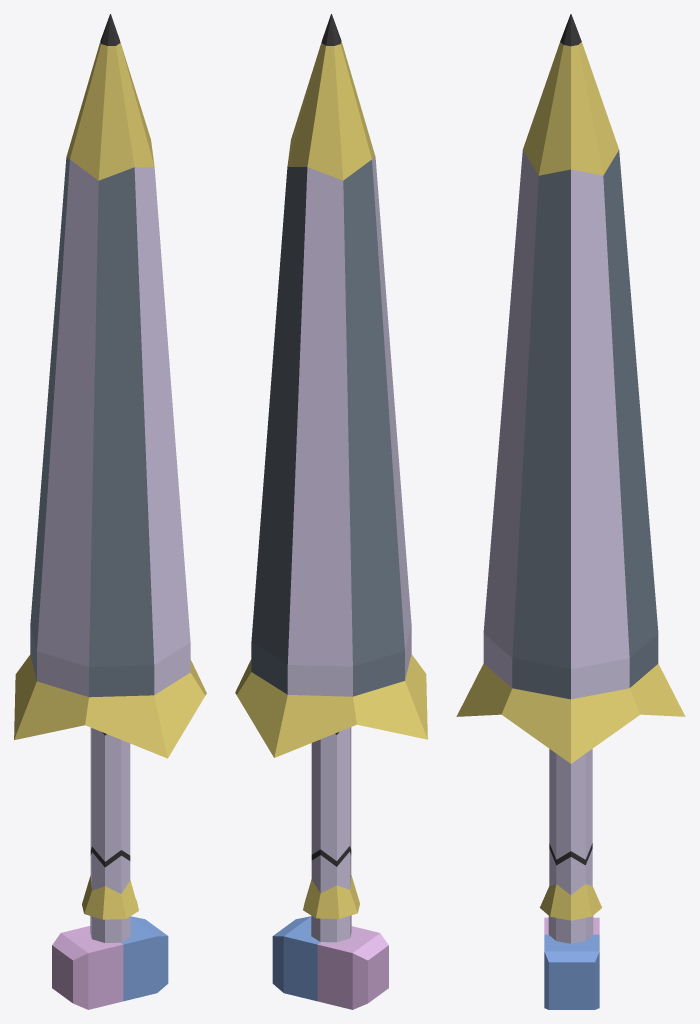
File: PencilSword.fbx
The picture shows the model from 3 angles, left to right: view 1: azimuth 30°, elevation 25°; view 2: azimuth 150°, elevation 25°; view 3: azimuth 270°, elevation 25°; orthographic projection.
Parts seen in each view (by area): view 1: Plane; view 2: Plane; view 3: Plane.
Part boxes in pixels (box(x1,y1,x2,y2)): Plane: box(14, 14, 206, 1009); Plane: box(235, 14, 427, 1009); Plane: box(456, 14, 685, 1009).
Bounding box in the file's own units: 206 × 995 × 212.
